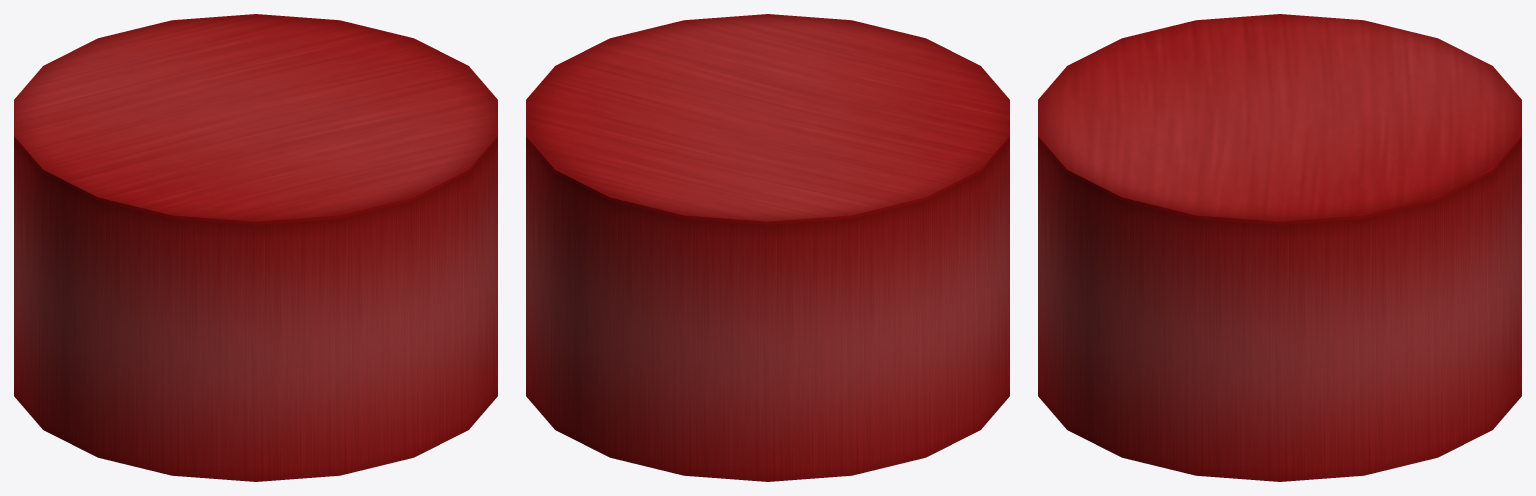
File: steelCylinder.obj
3 renders of one model, left to right at view 1: azimuth 30°, elevation 25°; view 2: azimuth 150°, elevation 25°; view 3: azimuth 270°, elevation 25°, orthographic.
Parts seen in each view (by area): view 1: steelCylinder; view 2: steelCylinder; view 3: steelCylinder.
Part boxes in pixels (bbox=[...]): steelCylinder: bbox=[14, 14, 497, 481]; steelCylinder: bbox=[526, 14, 1009, 481]; steelCylinder: bbox=[1038, 14, 1521, 481].
Size of the model in its own units: 1.71 by 1 by 1.69.
1 material, 1 textured.
